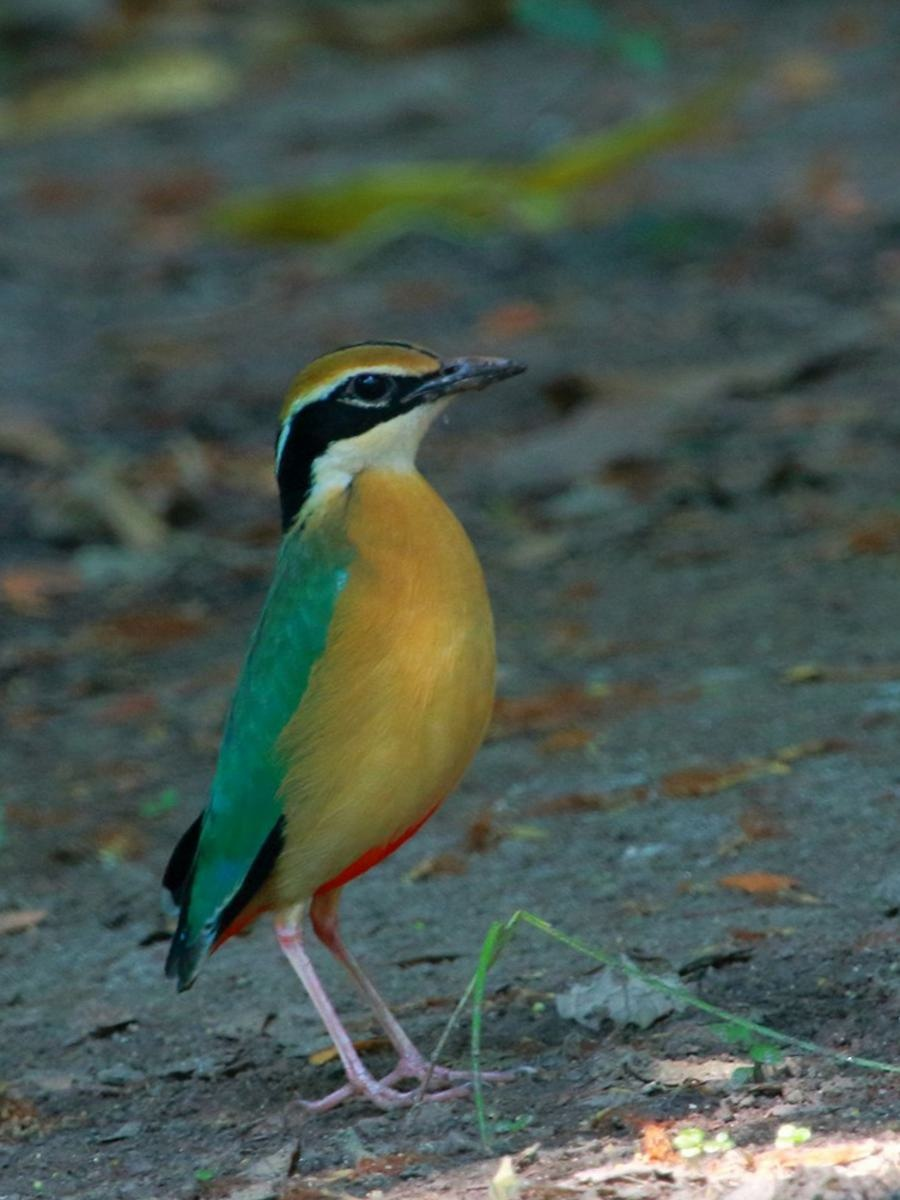pitta: (154, 321, 602, 1018)
